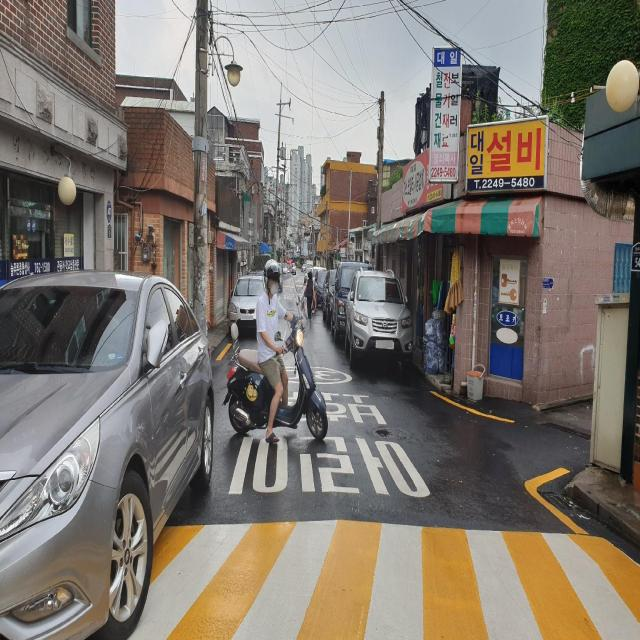car ahead at: (0, 269, 213, 635)
motorcycle ahead at: (228, 257, 328, 452)
zebra crossing ahead at: (143, 514, 640, 640)
